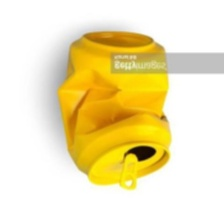can: (55, 27, 174, 192)
